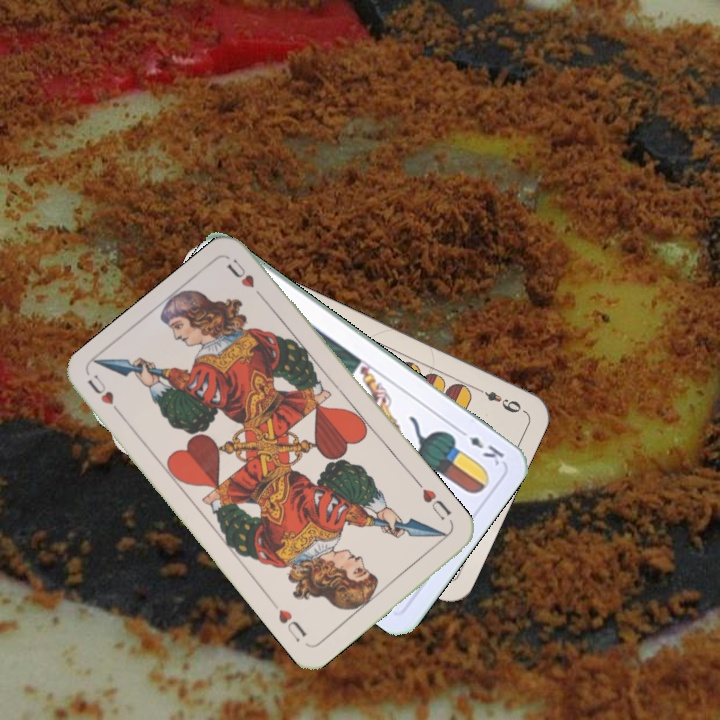E9: (471, 382, 524, 416)
EK: (454, 424, 507, 469)
HU: (83, 370, 128, 422), (418, 484, 454, 523)
